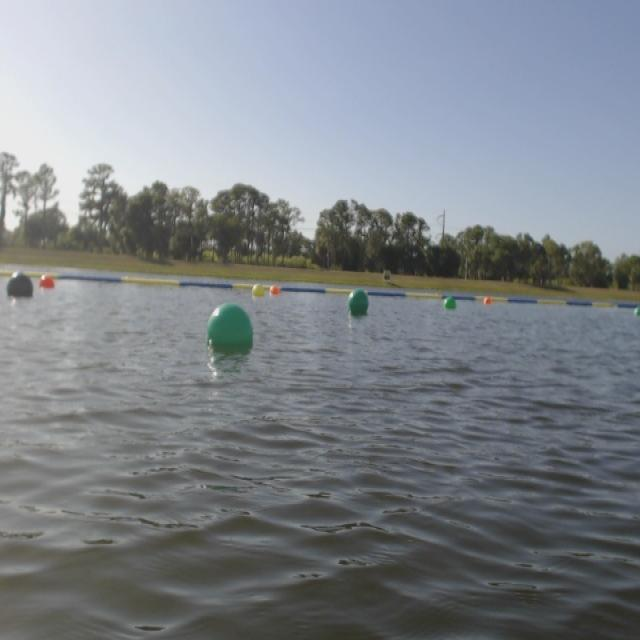Black_Buoy: (4, 267, 38, 304)
Green_Buoy: (203, 306, 255, 356), (342, 288, 370, 310), (440, 292, 458, 309)
Orange__Buoy: (482, 292, 507, 309), (39, 270, 57, 289), (270, 282, 282, 298)
